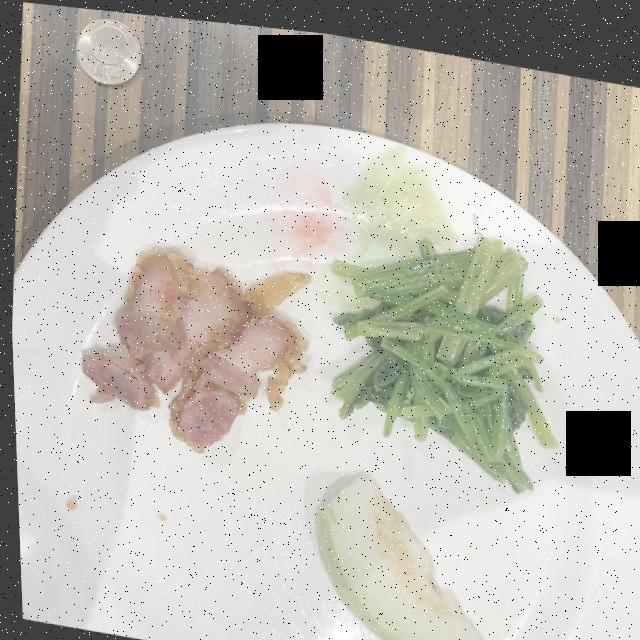coin: (75, 16, 140, 82)
guava -sliced-: (310, 464, 485, 640)
mustard greens: (328, 227, 554, 481)
red grilled pork: (79, 247, 308, 448)
